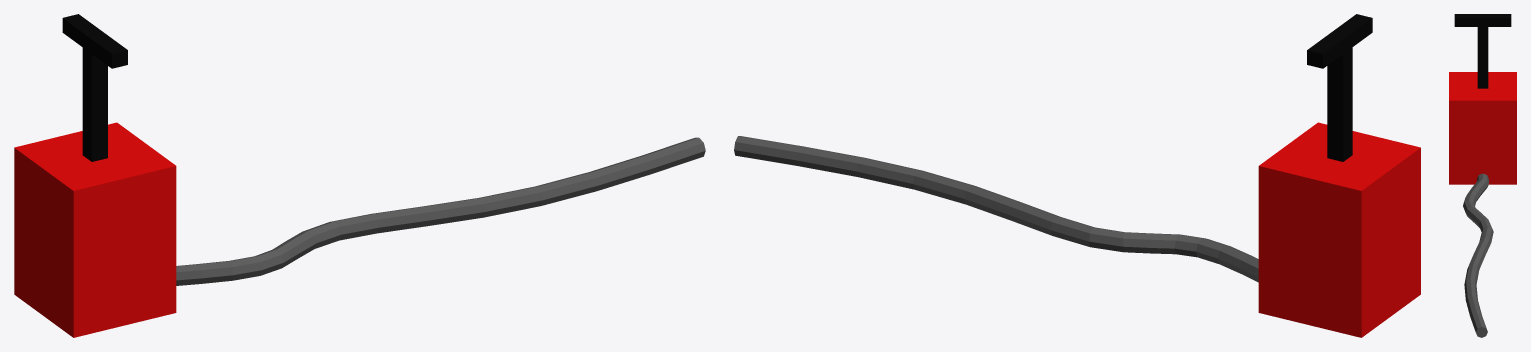
The model's file is Plunger.fbx.
3 views of the same model, side by side, from view 1: azimuth 30°, elevation 25°; view 2: azimuth 150°, elevation 25°; view 3: azimuth 270°, elevation 25° (orthographic). The views are drawn at different scales.
Visible parts, largest first — view 1: Plunger; view 2: Plunger; view 3: Plunger.
Boxes of the visible parts, left/top/right/bottom form: Plunger: left=14, top=14, right=705, bottom=337; Plunger: left=734, top=14, right=1420, bottom=337; Plunger: left=1449, top=14, right=1516, bottom=337.
Size of the model in its own units: 6.37 by 2.5 by 1.
